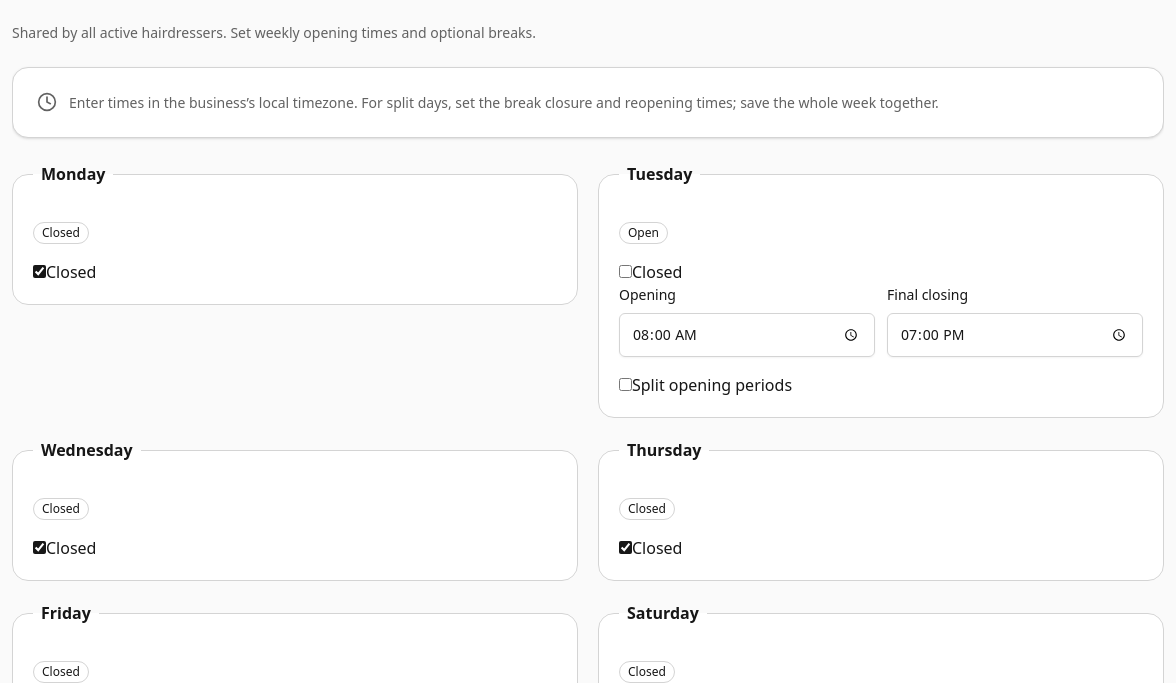
Test: Owner saves split opening periods
The image size is (1176, 683).
Step 1. Click the checkbox named "Tuesday split opening periods" → (626, 384), box top-left (619, 378), bottom-right (632, 391)
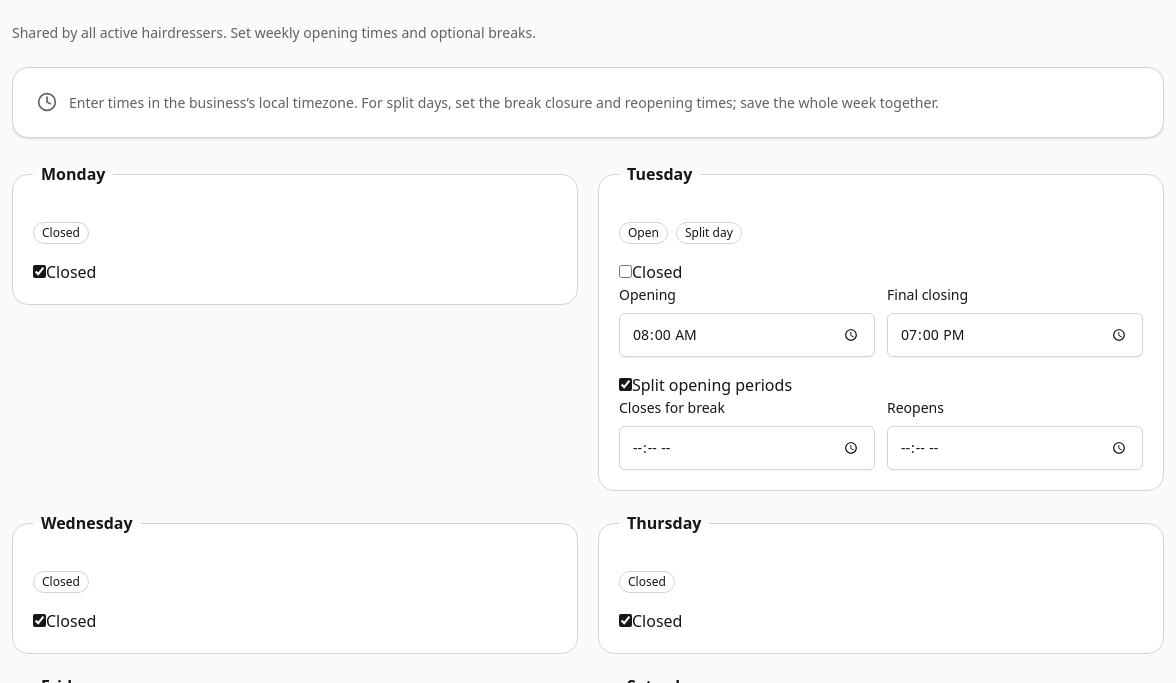
Step 2. Type "12:00" into the time field named "Tuesday closes for break" → (747, 448), box top-left (619, 426), bottom-right (875, 470)
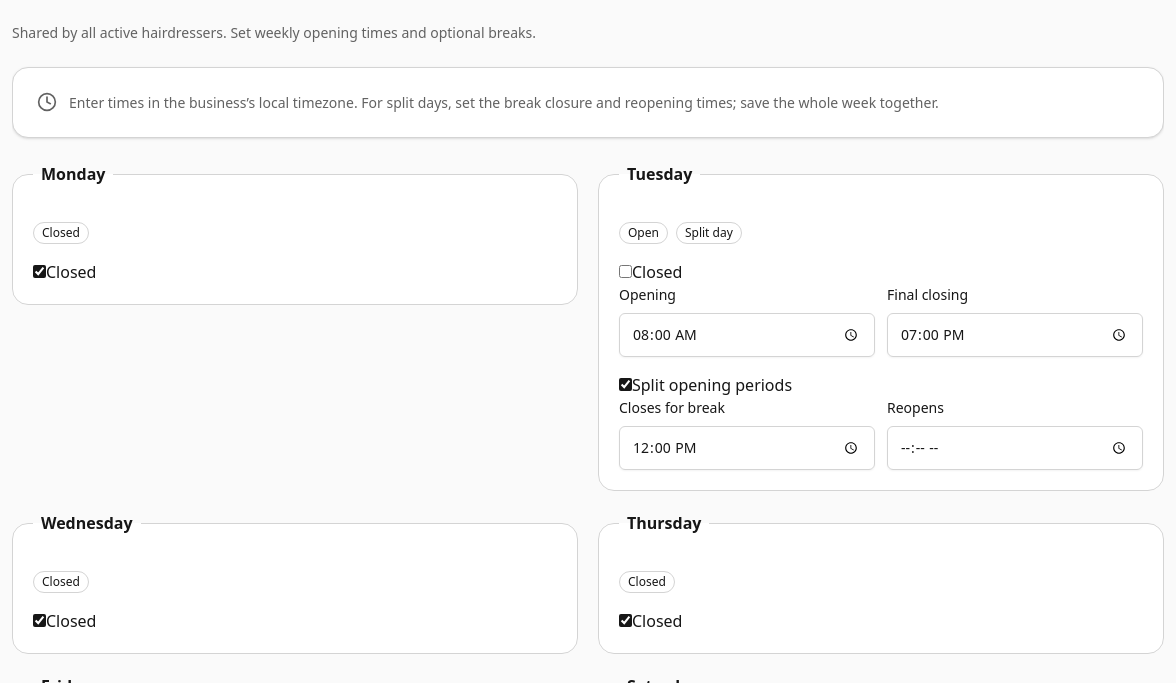
Step 3. Type "14:00" into the time field named "Tuesday reopens" → (1015, 448), box top-left (887, 426), bottom-right (1143, 470)
(page scrolled)
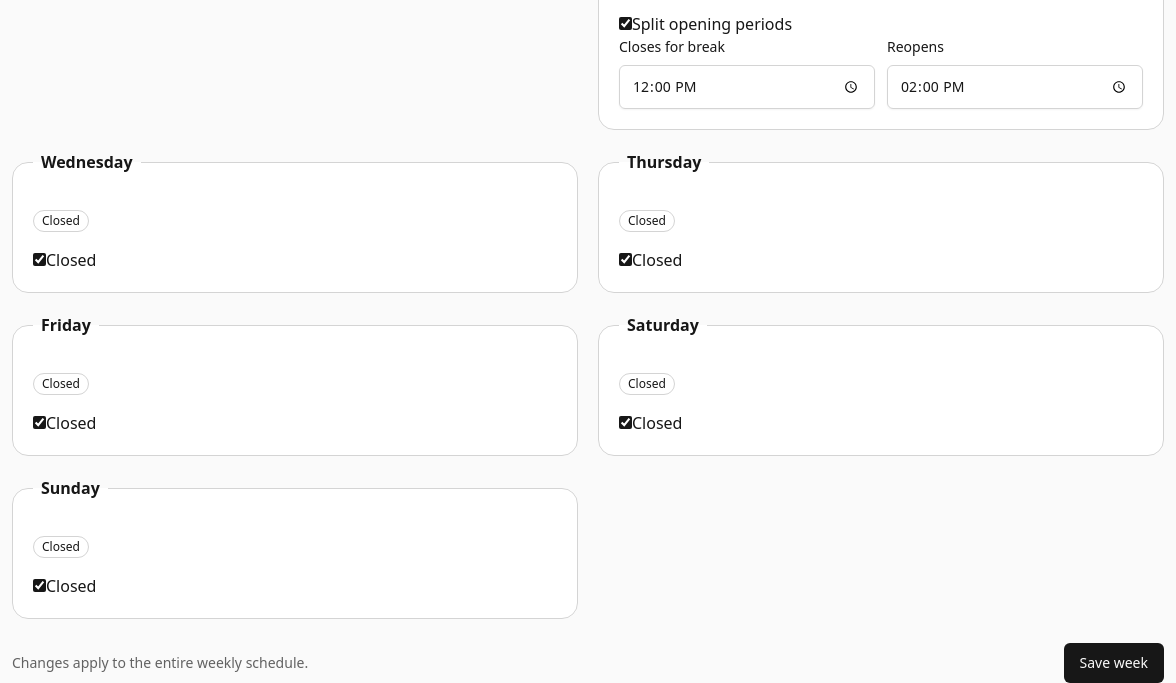
Step 4. Click the button "Save week" → (1114, 663), box top-left (1064, 643), bottom-right (1164, 682)
(page scrolled)
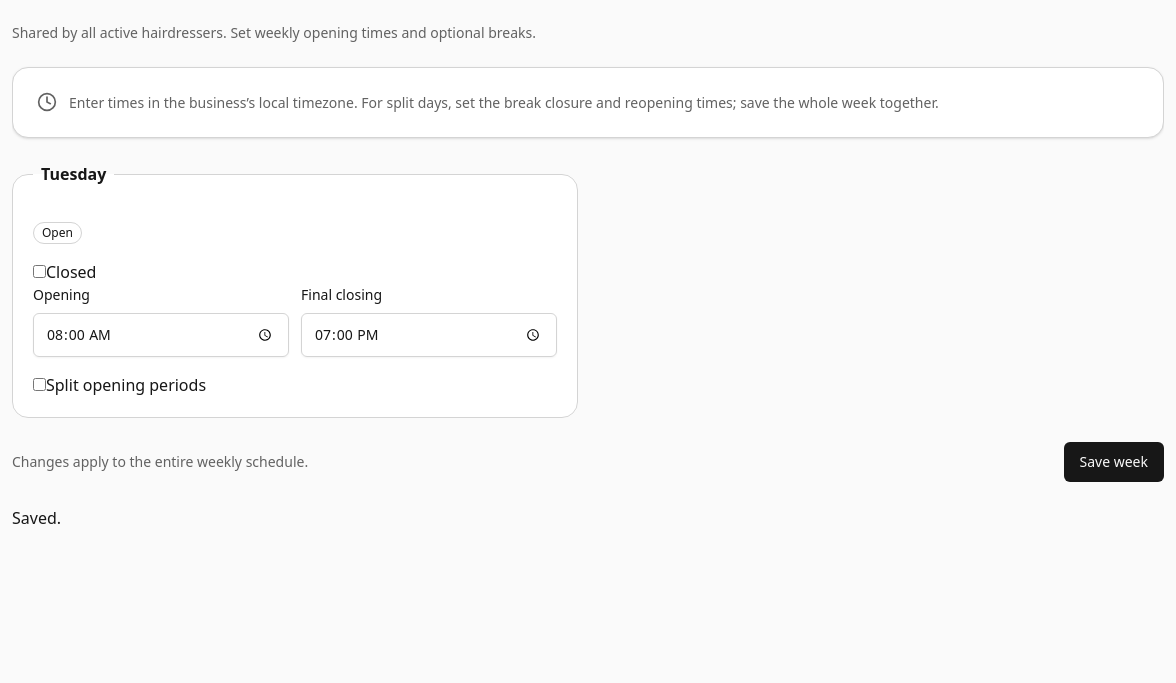
Check: the text "Saved." is shown, box top-left (12, 507), bottom-right (61, 529)
